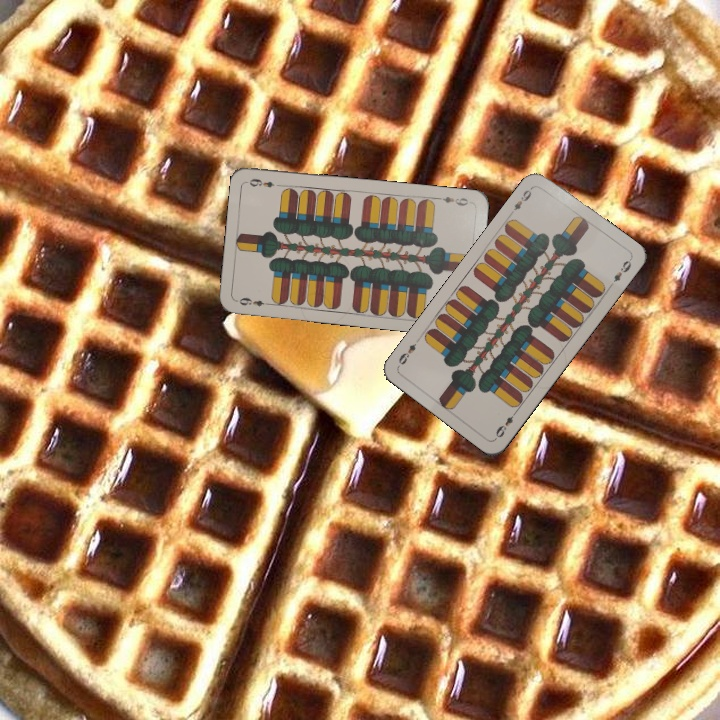E9: (507, 182, 537, 217), (491, 406, 520, 440), (433, 192, 471, 208), (235, 293, 273, 309)
